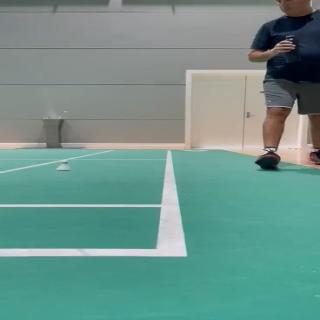Shuttle: (56, 159, 71, 171)
